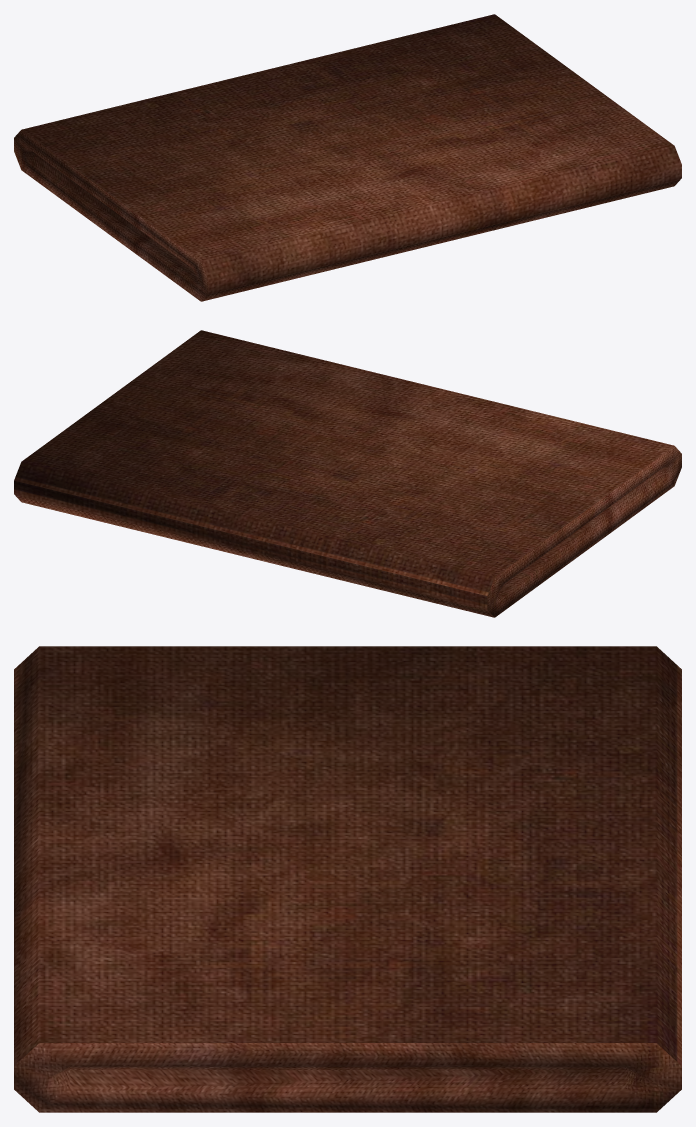
The model's file is KM_VOB_MERCHANT_FABRIC_04.glb.
3 views of the same model, one above another, from view 1: azimuth 30°, elevation 25°; view 2: azimuth 150°, elevation 25°; view 3: azimuth 270°, elevation 25° (orthographic). The views are drawn at different scales.
Visible parts, largest first — view 1: Mesh; view 2: Mesh; view 3: Mesh.
Boxes of the visible parts, bbox=[...] form: Mesh: bbox=[14, 14, 681, 301]; Mesh: bbox=[14, 330, 681, 617]; Mesh: bbox=[14, 646, 681, 1112].
Size of the model in its own units: 0.6403 by 0.0524 by 0.4556.
Materials: 1 (1 with a texture image).
